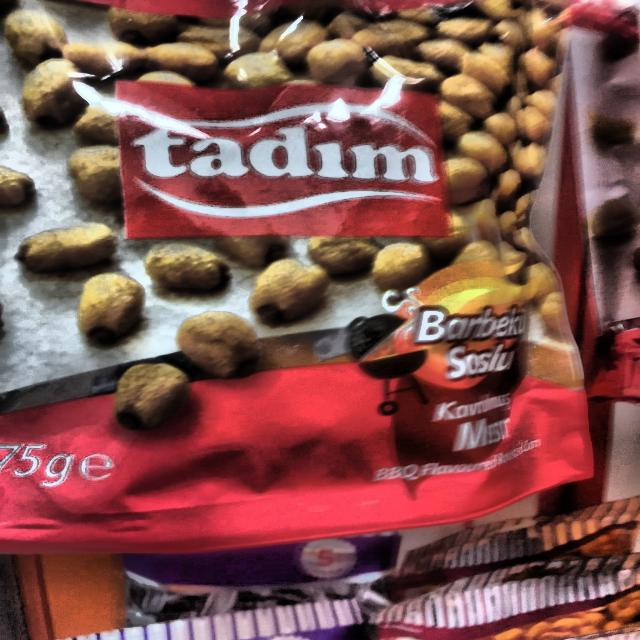Plastic: (5, 1, 606, 560)
